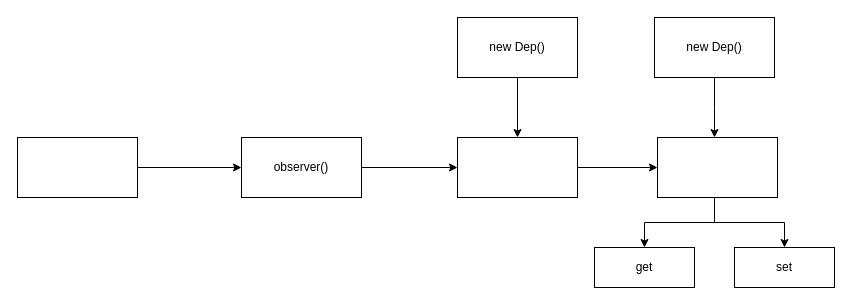
This 852x305 diagram has some shape labels left out. The shapes that lost their labels are listed below. From the top down, each one's box as (x1, y1, x2, y2) in pixels, then its label:
(16, 136, 138, 198): Data
(456, 136, 578, 198): new Observer()
(656, 136, 778, 198): defineReactive
